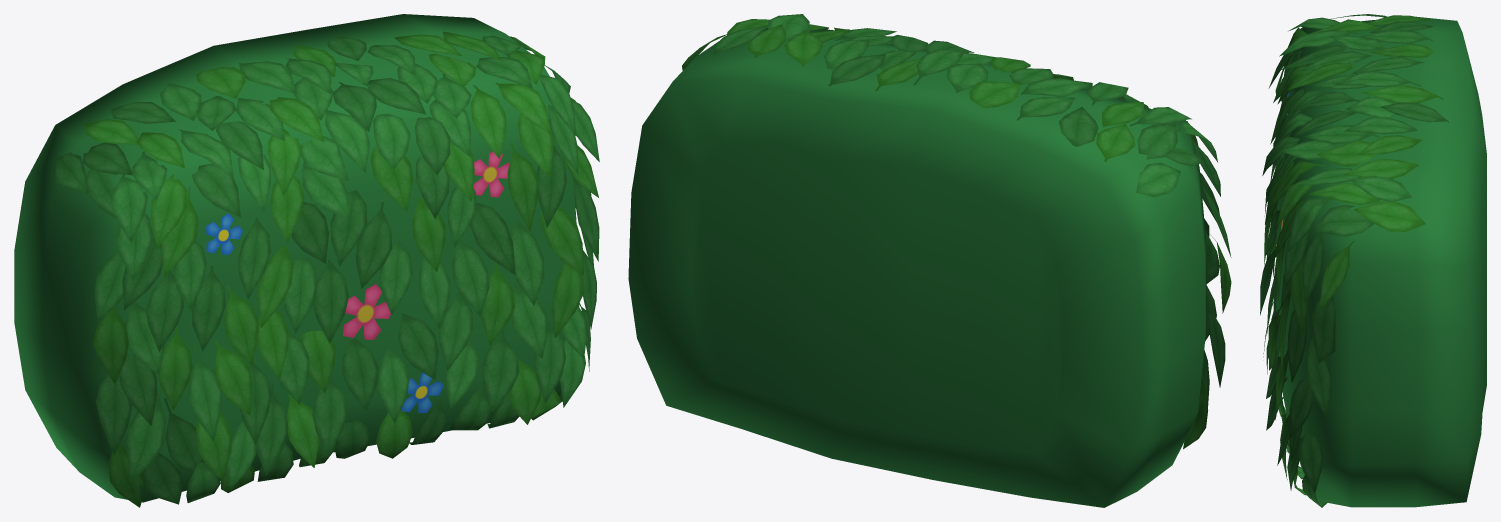
The model's file is ArbustoPequenoFlores.fbx.
The picture shows the model from 3 angles, left to right: view 1: azimuth 30°, elevation 25°; view 2: azimuth 150°, elevation 25°; view 3: azimuth 270°, elevation 25°; orthographic projection. The views are drawn at different scales.
Visible parts, largest first — view 1: ArbustoPequenoFlores; view 2: ArbustoPequenoFlores; view 3: ArbustoPequenoFlores.
Part boxes in pixels (x1,y1,x2,y2): ArbustoPequenoFlores: (14, 14, 599, 507); ArbustoPequenoFlores: (628, 14, 1231, 507); ArbustoPequenoFlores: (1260, 14, 1486, 507).
Size of the model in its own units: 1738 by 1201 by 736.
